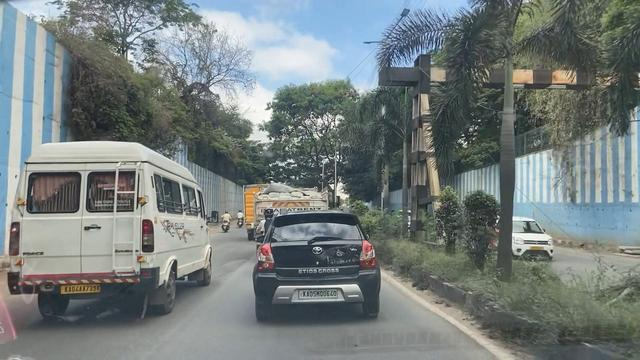HMV: (9, 140, 215, 325)
LMV: (239, 206, 384, 334)
